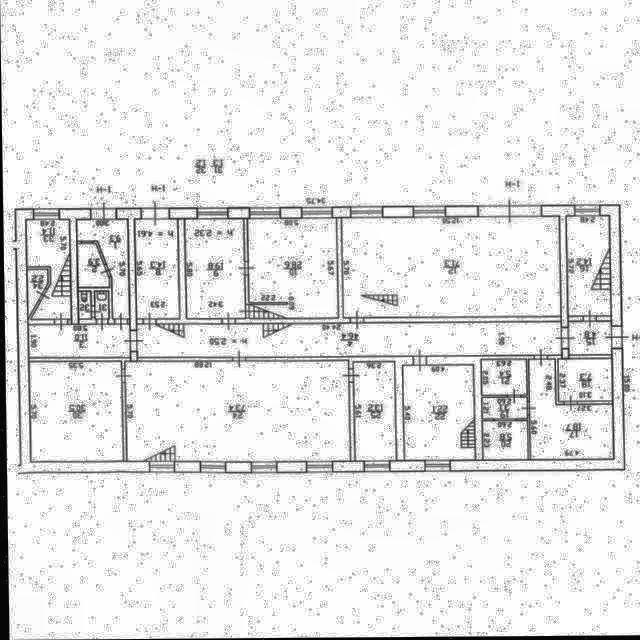room: (124, 361, 348, 463), (341, 217, 560, 319), (137, 321, 561, 358), (27, 362, 120, 463), (247, 218, 338, 319), (527, 358, 612, 462), (401, 366, 474, 462), (184, 219, 244, 320), (76, 218, 129, 320), (25, 218, 71, 320), (566, 216, 610, 317), (352, 362, 395, 462), (135, 220, 178, 320), (27, 325, 129, 357), (558, 360, 611, 402), (481, 421, 526, 460), (481, 361, 526, 395), (77, 243, 109, 288), (568, 322, 610, 356), (26, 269, 47, 318), (481, 398, 526, 420), (94, 291, 108, 319), (78, 291, 90, 319)
